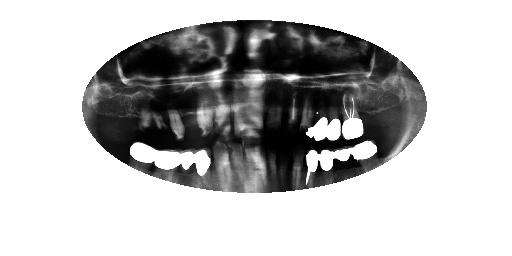Cavity: (279, 144, 293, 189)
